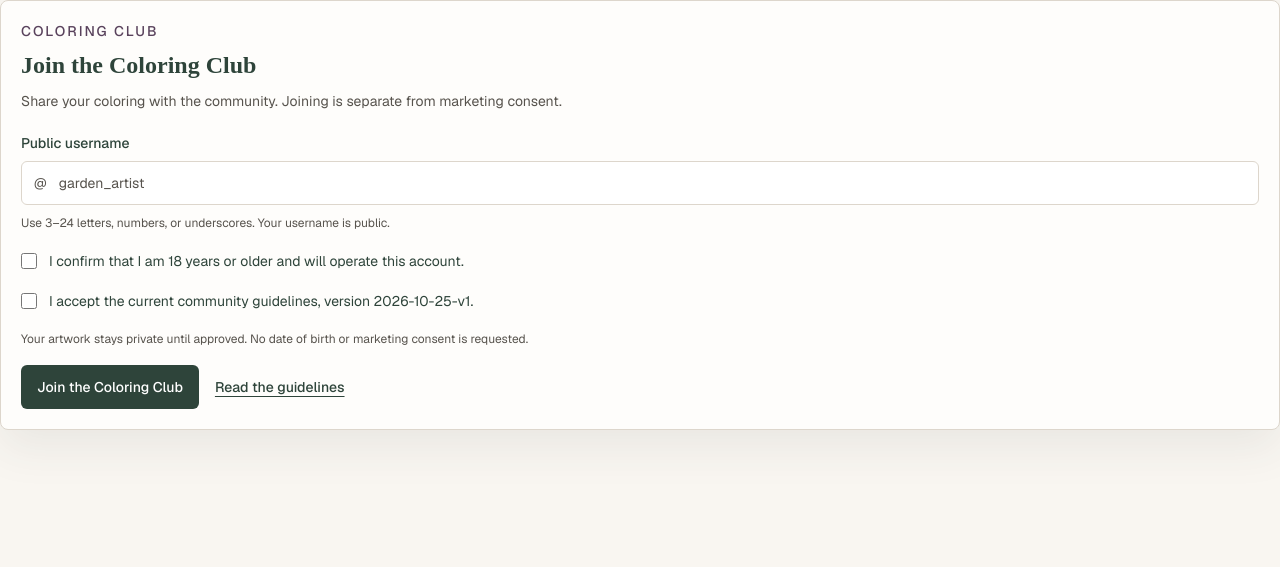
Test case: CommunityAccountPanel › requires unchecked adult and current-rules opt-ins and sends no marketing or actor fields
Expected: the checkbox labelled "I confirm that I am 18 years or older" is not checked, [21,253,37,269]
Expected: the checkbox labelled "I accept the current community guidelines" is not checked, [21,293,37,309]
In the field labelled "Public username": (652, 183) [47,162,1258,204], type "garden_user"
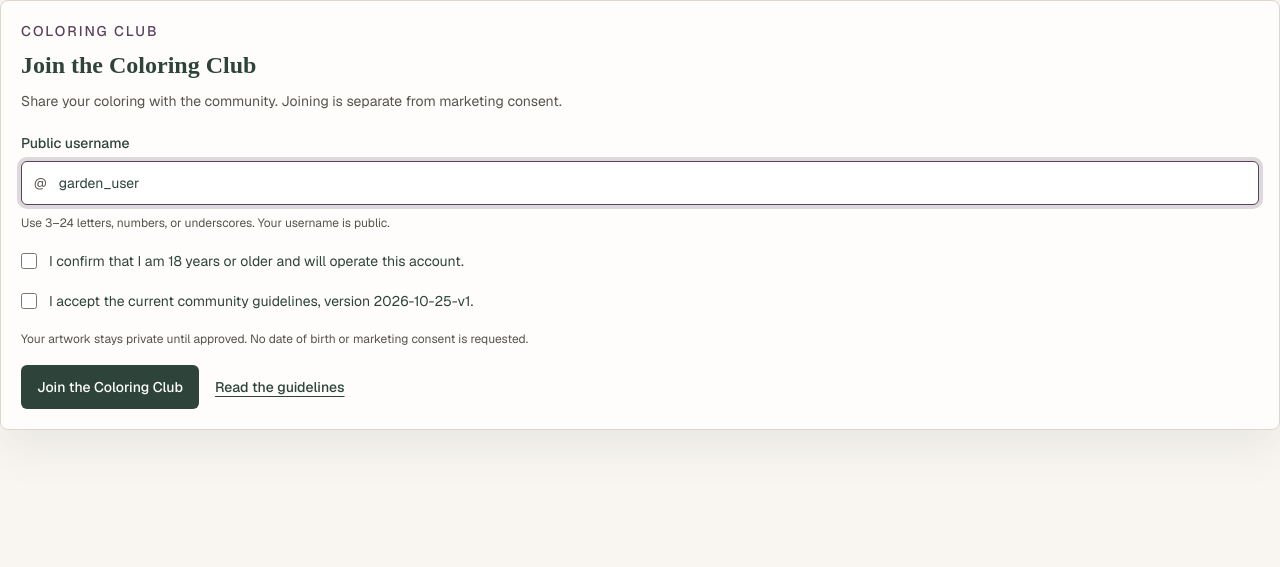
Click the button "Join the Coloring Club": (110, 387) [21,365,199,409]
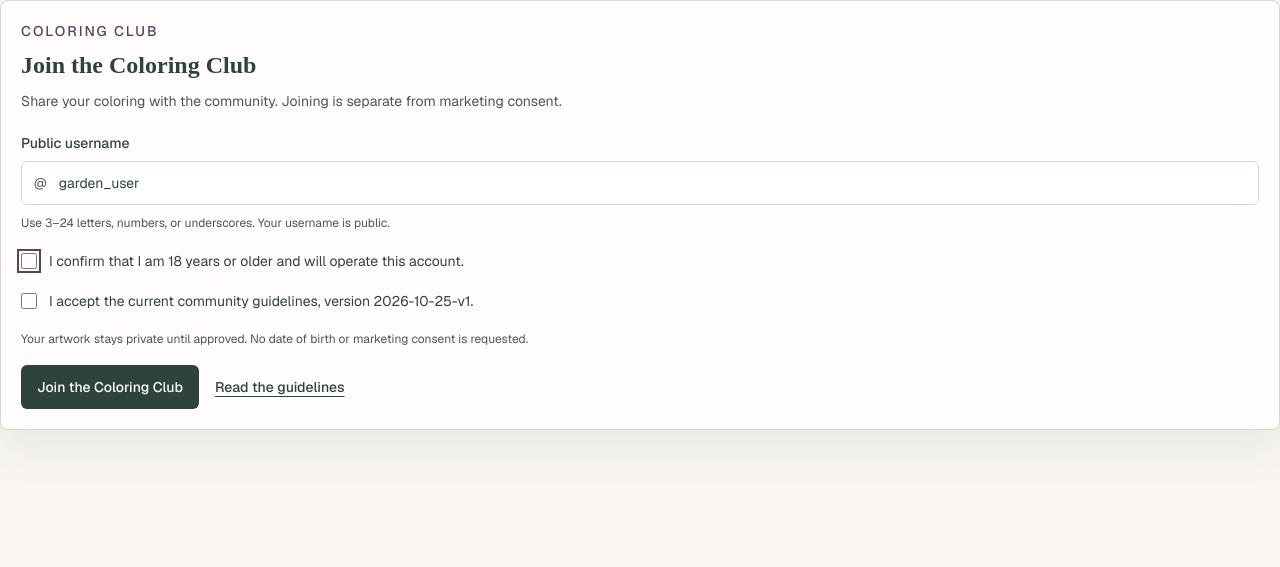
Click the checkbox labelled "I confirm that I am 18 years or older": (29, 261) [21,253,37,269]
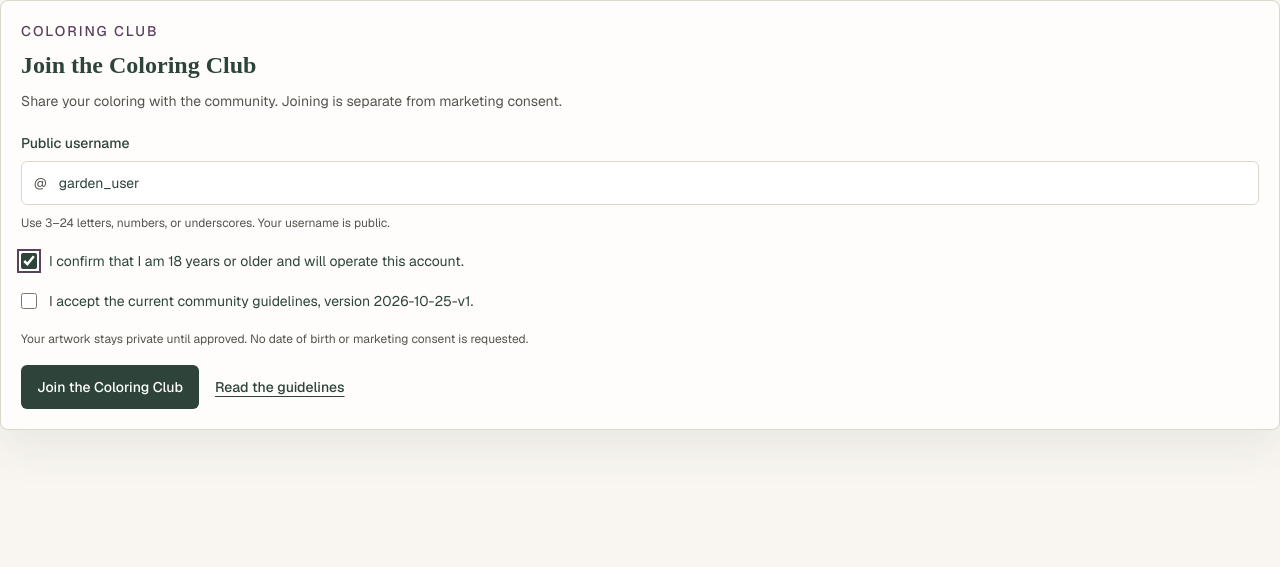
Click the checkbox labelled "I accept the current community guidelines": (29, 301) [21,293,37,309]
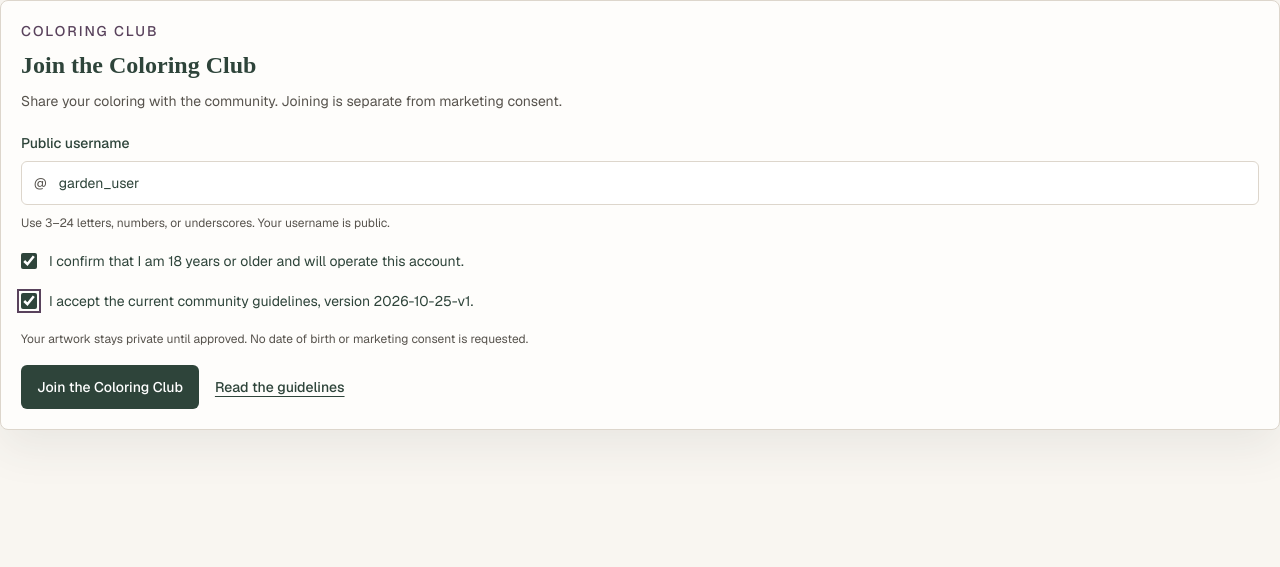
Click the button "Join the Coloring Club": (110, 387) [21,365,199,409]
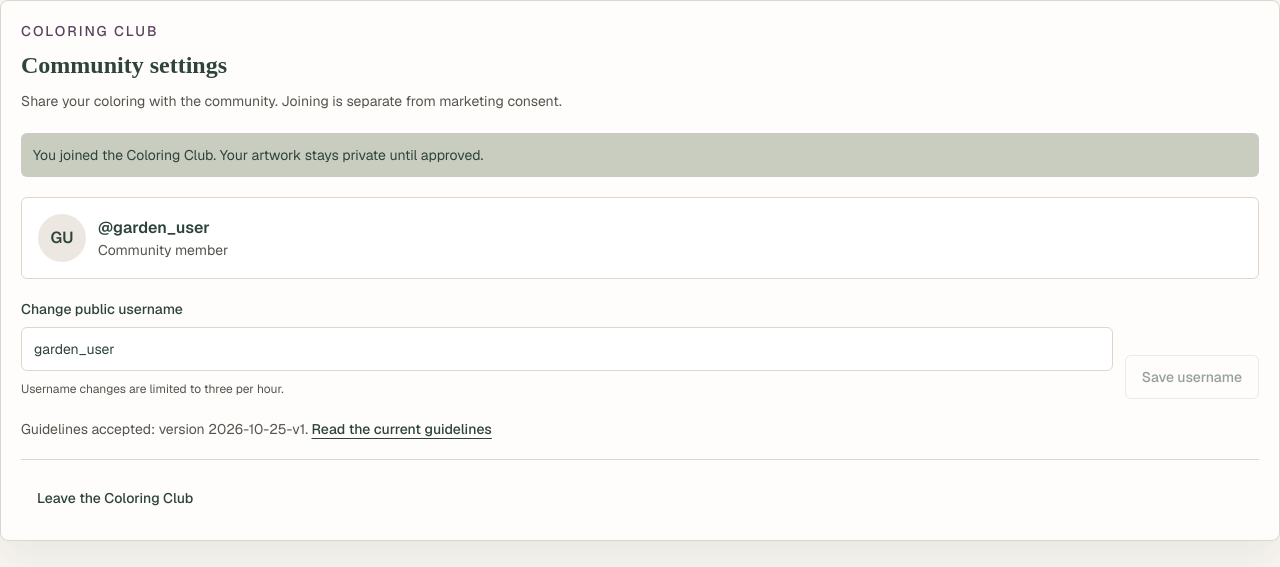
Result: the message shows "You joined the Coloring Club" at [33,146,483,164]
